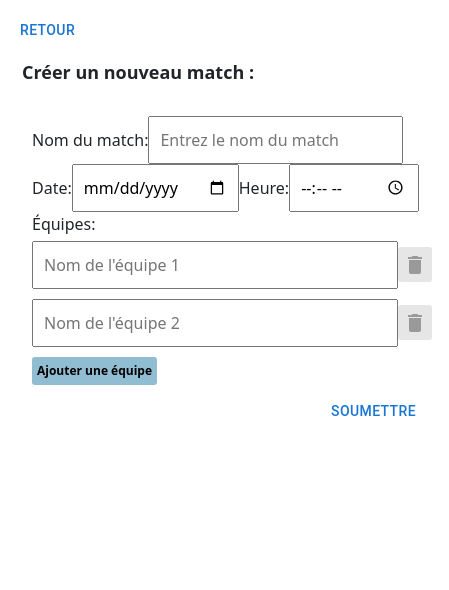
Test: NewGame Component › Message d'erreur lors de la soumission du formulaire avec le champ "Date:" vide
Type "Test Game" into the field labelled "Nom du match:" at (276, 140), box left=148, top=116, right=403, bottom=164
Type "12:00" into the time field labelled "Heure:" at (354, 188), box left=289, top=164, right=419, bottom=212
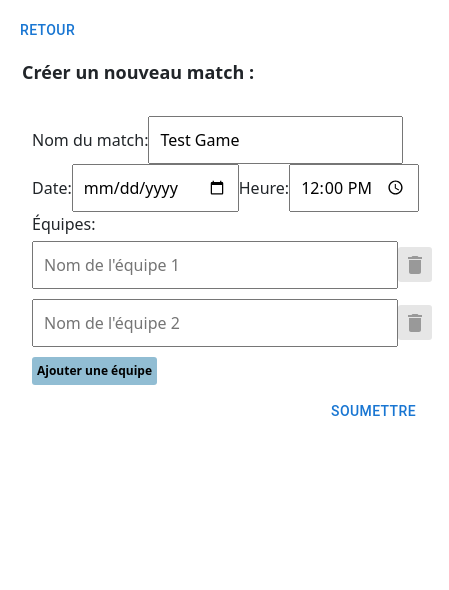
Click the button "Ajouter une équipe" at (94, 370), box left=32, top=356, right=157, bottom=384
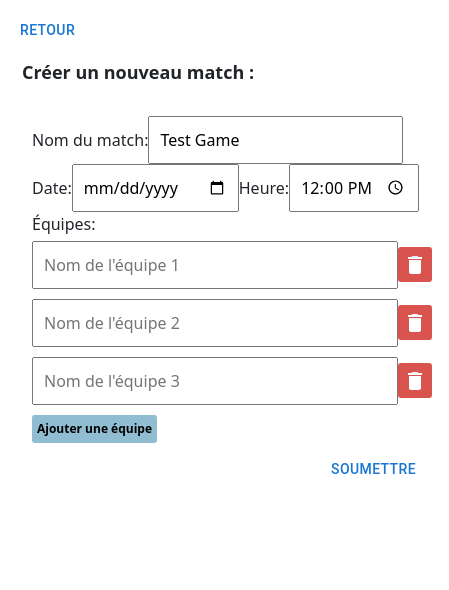
Type "Team A" into the field with placeholder "Nom de l'équipe 1" at (215, 264), box left=32, top=240, right=398, bottom=288
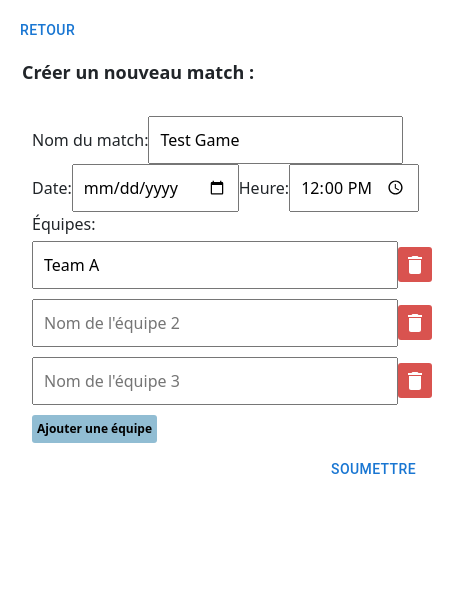
Type "Team B" into the field with placeholder "Nom de l'équipe 2" at (215, 322), box left=32, top=298, right=398, bottom=346
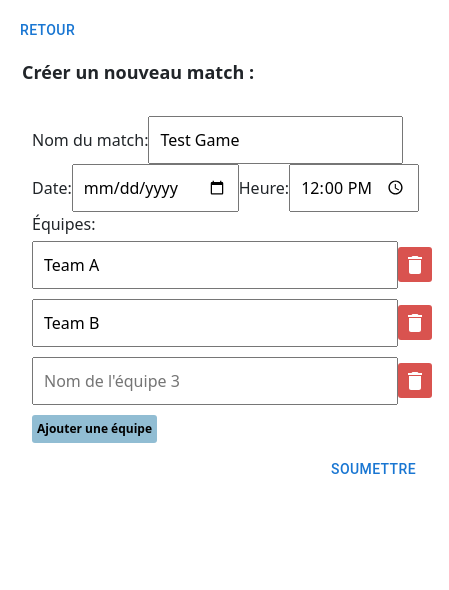
Type "Team C" into the field with placeholder "Nom de l'équipe 3" at (215, 380), box left=32, top=356, right=398, bottom=404
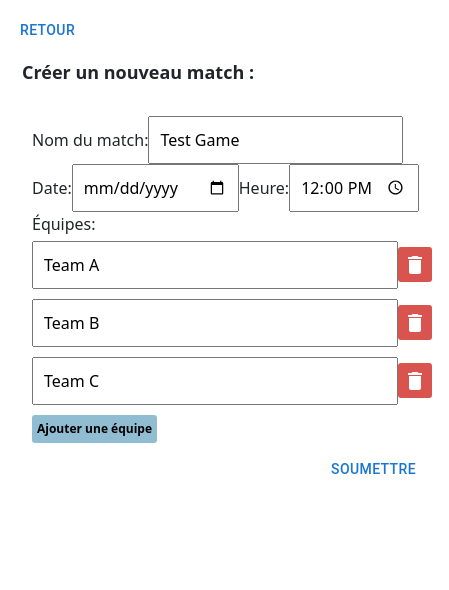
Click the button "Soumettre" at (374, 469), box left=323, top=450, right=424, bottom=487
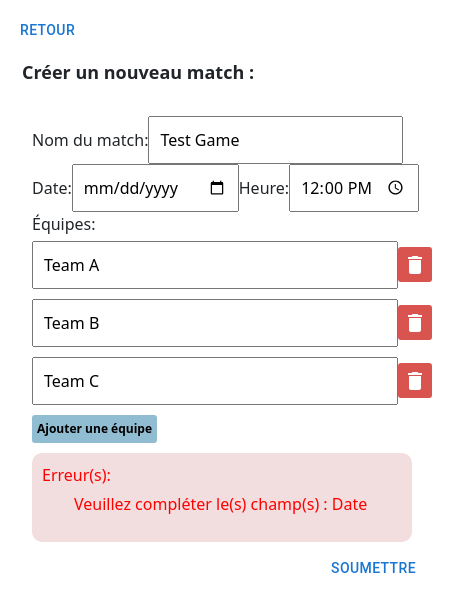
Expected: the list item "Veuillez compléter le(s) champ(s) : Date" is shown, left=74, top=492, right=402, bottom=516
